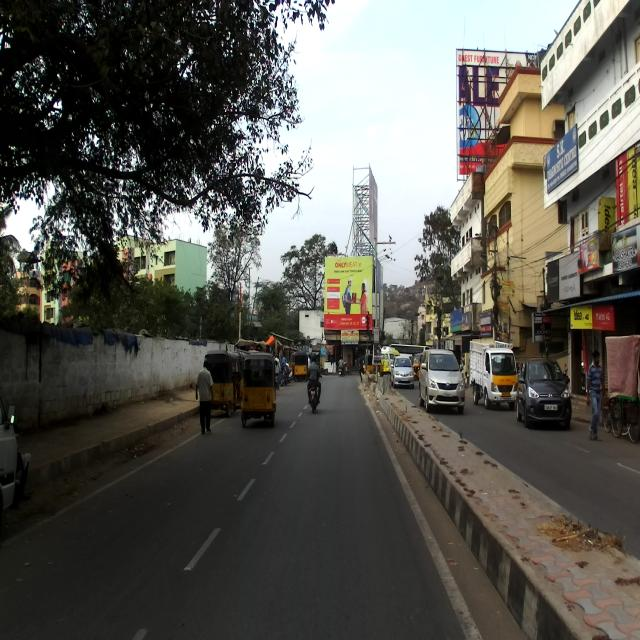auto ahead at: (242, 352, 278, 426)
car ahead at: (515, 356, 573, 426)
